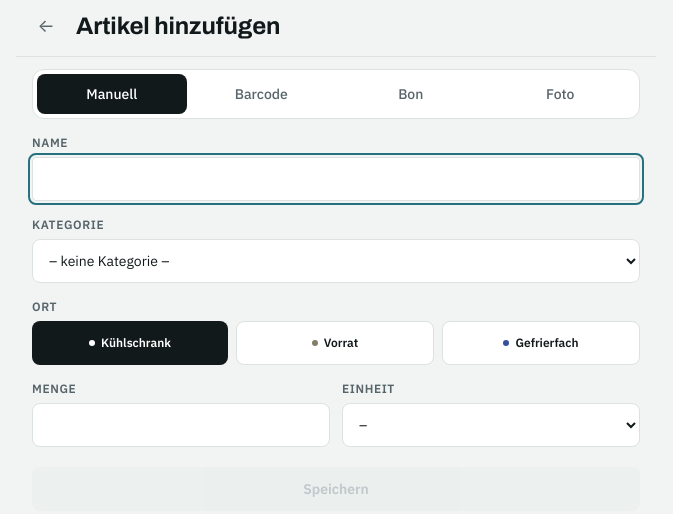
Test: AddItem — mode tabs › switches to photo mode
This screenshot has width=673, height=514.
Click the tab "Foto" at point(560, 94), box [486,74,635,114]
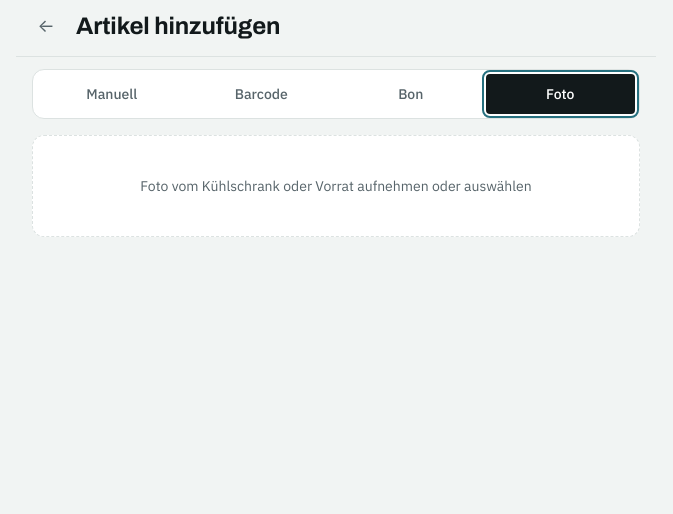
expect the file field "Foto vom Kühlschrank oder Vorrat aufnehmen oder auswählen" is shown: met, box [32,135,640,237]
